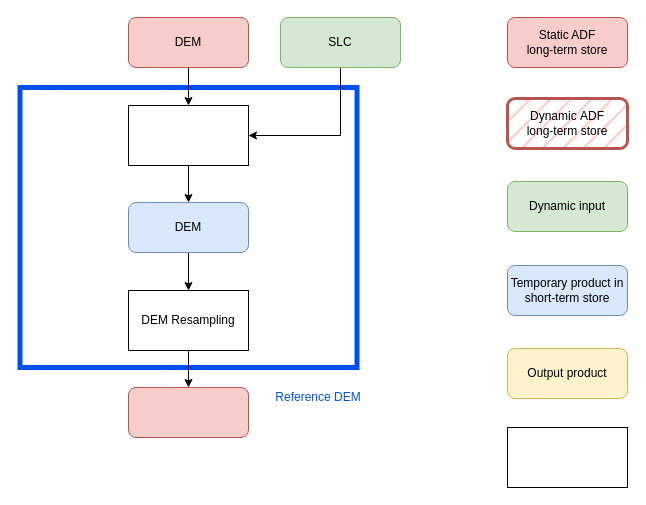
The diagram is 646 pixels wide and 505 high, and some of its shapes have lost their labels. Here are the shapes that lost their labels. From the top down, the centre of each, then its label:
At pixel 188 135: "DEM import".
At pixel 188 412: "Resampled DEM".
At pixel 567 457: "Processing block".
